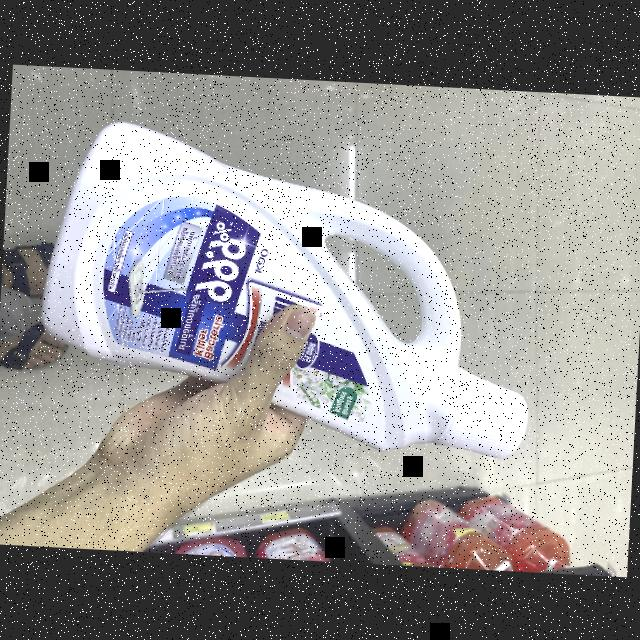chemical_plastic_gallon: (18, 110, 560, 473)
